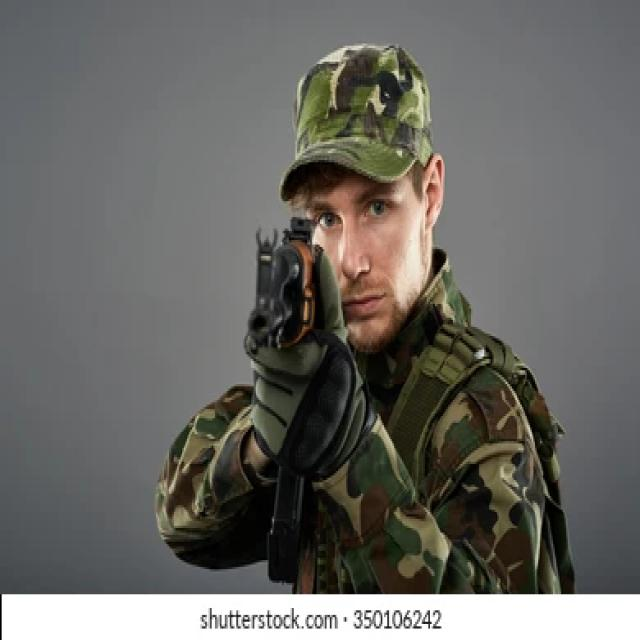soldier: (164, 47, 581, 595)
